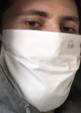with_mask: (2, 2, 81, 113)
